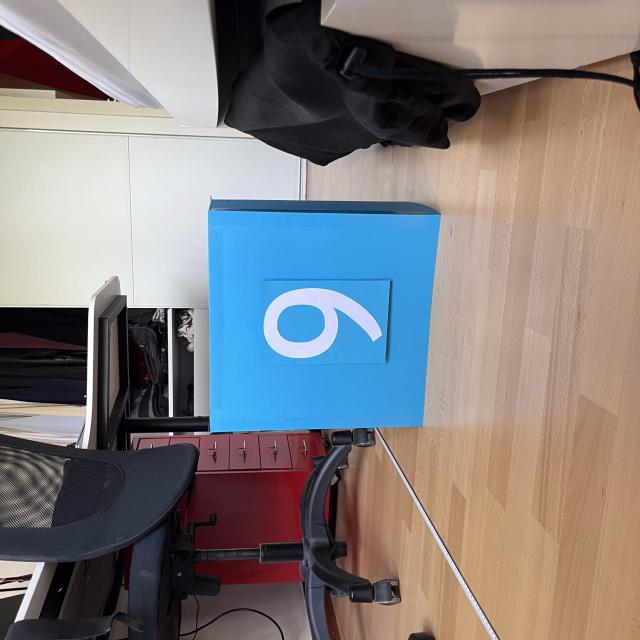box: (202, 194, 444, 434)
